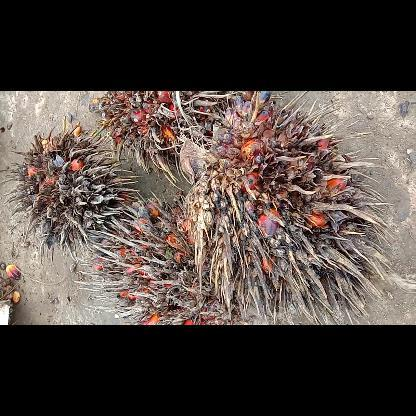Terlalu masak: (174, 92, 396, 324), (69, 190, 287, 324), (0, 122, 144, 268), (88, 90, 276, 182)
